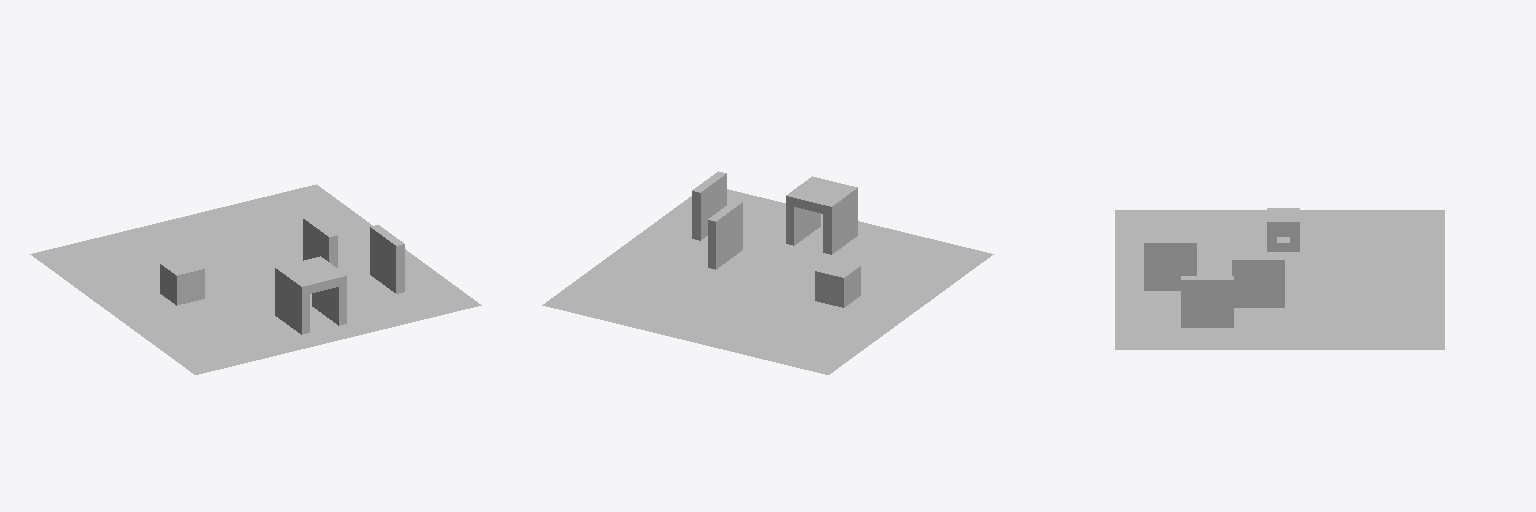
File: map4.obj
3 renders of one model, left to right at view 1: azimuth 30°, elevation 25°; view 2: azimuth 150°, elevation 25°; view 3: azimuth 270°, elevation 25°, orthographic.
Visible parts, largest first — view 1: Cube.001_Cube.002; view 2: Cube.001_Cube.002; view 3: Cube.001_Cube.002.
Part boxes in pixels (x1,y1,x2,y2): Cube.001_Cube.002: (30,184,481,374); Cube.001_Cube.002: (542,171,993,374); Cube.001_Cube.002: (1115,208,1444,349).
Bounding box in the file's own units: 100 × 16.11 × 100.